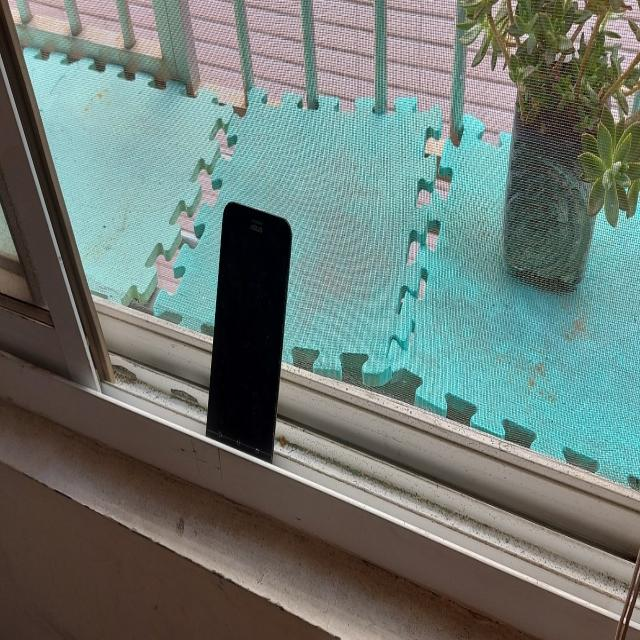Smartphone: (194, 194, 301, 472)
